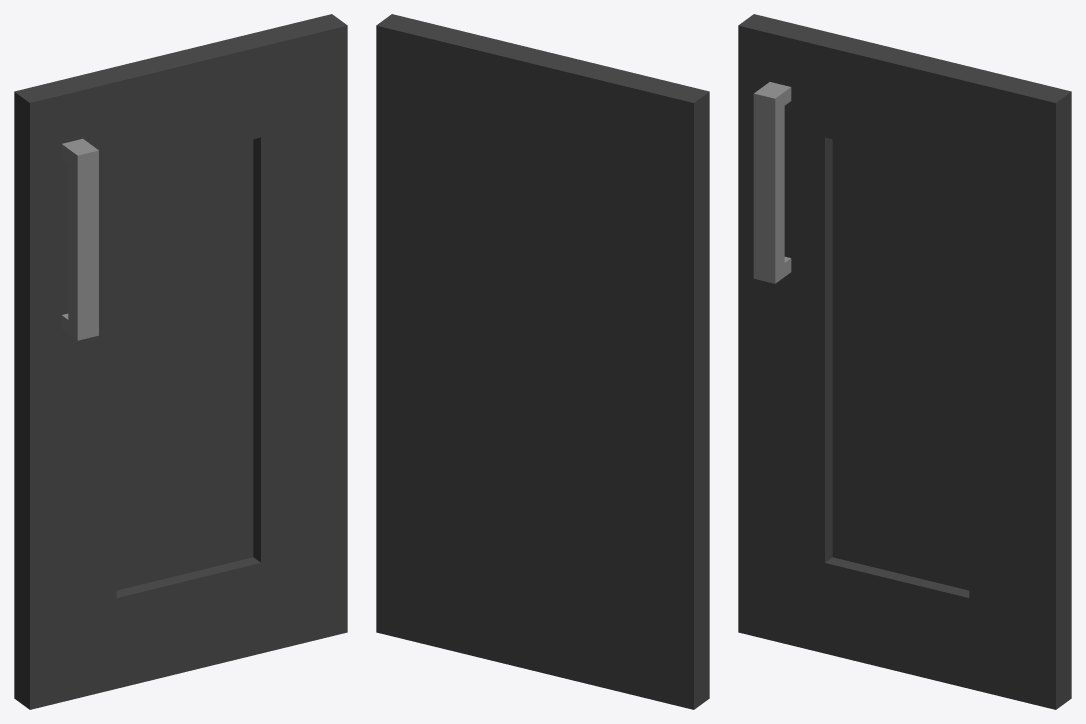
The model's file is Door2_C3_09.fbx.
The picture shows the model from 3 angles, left to right: view 1: azimuth 30°, elevation 25°; view 2: azimuth 150°, elevation 25°; view 3: azimuth 330°, elevation 25°; orthographic projection.
Visible parts, largest first — view 1: Door2_C3_09; view 2: Door2_C3_09; view 3: Door2_C3_09.
Part boxes in pixels (x1,y1,x2,y2): Door2_C3_09: [14, 14, 347, 709]; Door2_C3_09: [376, 14, 709, 709]; Door2_C3_09: [738, 14, 1071, 709].
Bounding box in the file's own units: 29 × 52.92 × 5.03.
